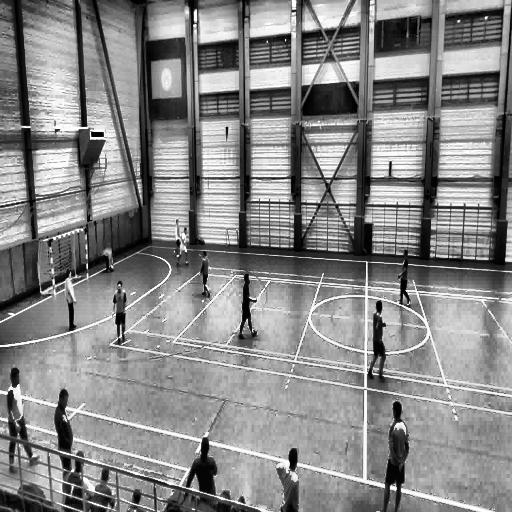ball: (108, 260, 116, 274), (253, 330, 257, 334)
player: (378, 399, 408, 510), (7, 373, 40, 471), (367, 300, 386, 380), (55, 391, 73, 473), (237, 272, 255, 338), (113, 280, 128, 342), (396, 252, 410, 306), (65, 269, 77, 331), (200, 251, 210, 297), (172, 216, 182, 259), (101, 247, 116, 274), (179, 228, 188, 268)
